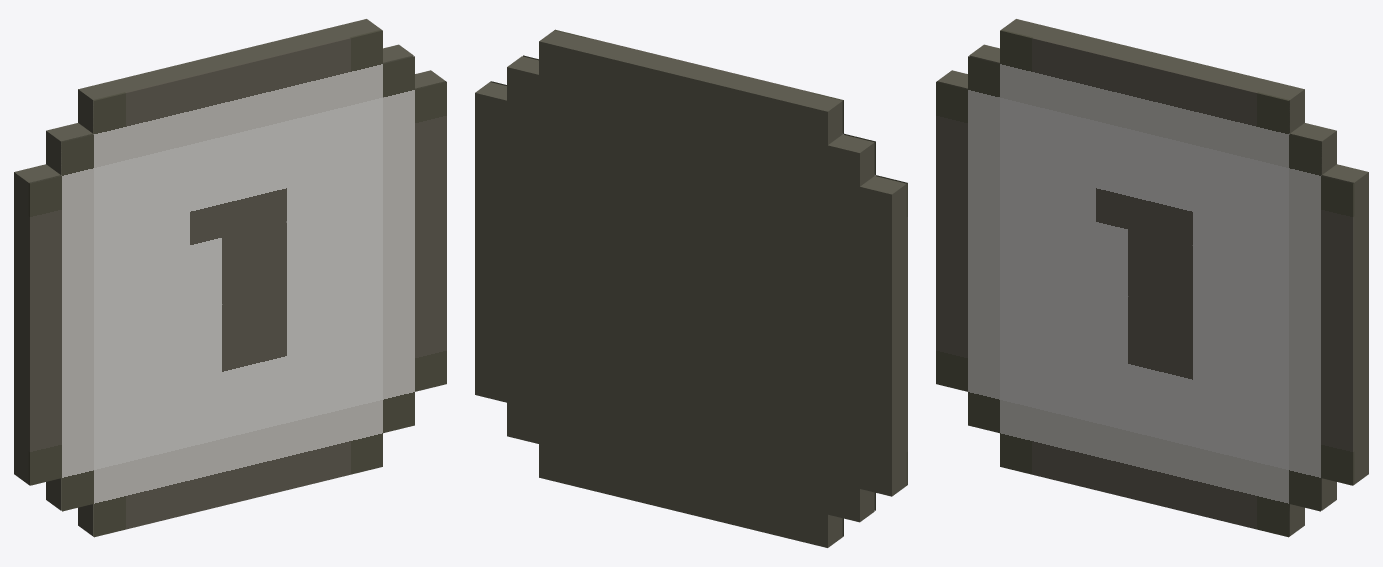
The model's file is CMU3DSemioticOne.glb.
3 views of the same model, side by side, from view 1: azimuth 30°, elevation 25°; view 2: azimuth 150°, elevation 25°; view 3: azimuth 330°, elevation 25° (orthographic).
Visible parts, largest first — view 1: original printed face, clipped metal plate backing (×3); view 2: clipped metal plate backing (×5), original printed face; view 3: original printed face, clipped metal plate backing (×3).
Boxes of the visible parts, left/top/right/bottom form: original printed face: left=28, top=29, right=446, bottom=537; clipped metal plate backing (×3): left=14, top=19, right=445, bottom=484; clipped metal plate backing (×5): left=475, top=30, right=906, bottom=547; original printed face: left=490, top=29, right=907, bottom=536; original printed face: left=936, top=29, right=1354, bottom=537; clipped metal plate backing (×3): left=937, top=19, right=1368, bottom=484.
Size of the model in its own units: 0.4062 by 0.4062 by 0.027.
2 materials, 1 textured.
